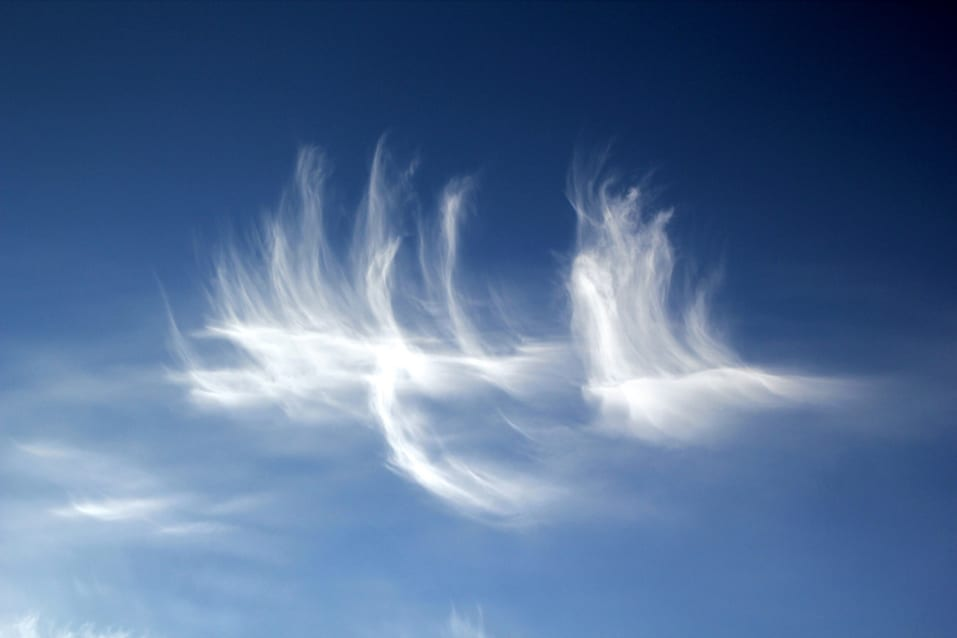Cirrus: (134, 101, 581, 547), (549, 136, 906, 483)
